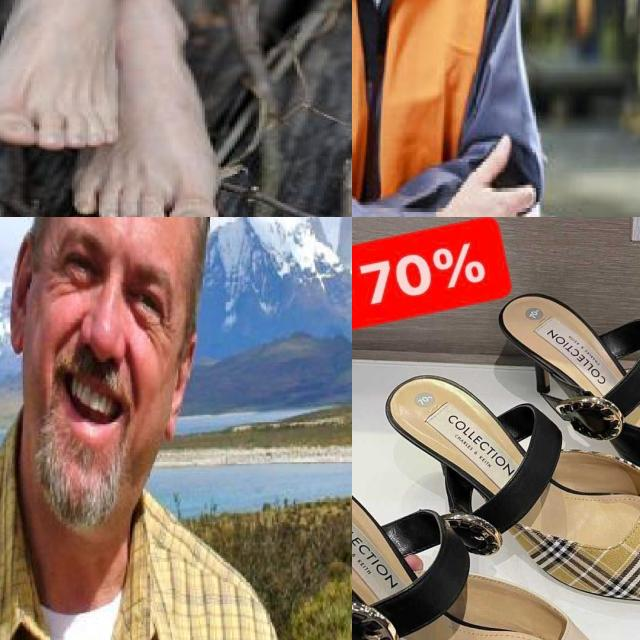Barefoots: (0, 0, 130, 148)
Sandals: (381, 358, 640, 628), (352, 429, 640, 640), (470, 275, 640, 524)
face_nomask: (31, 221, 178, 443)
hand_noglove: (439, 128, 550, 217)
person: (352, 0, 563, 217)
vest: (352, 0, 478, 195)
